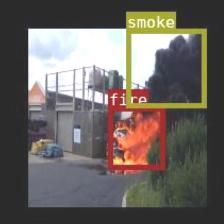fire: (108, 106, 164, 168)
smoke: (126, 28, 205, 107)
